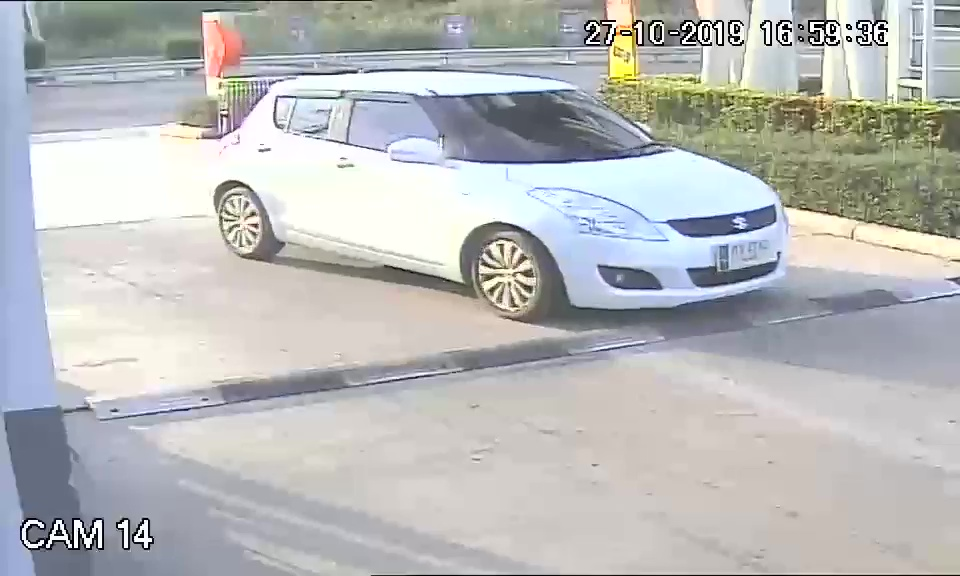sedan: (198, 69, 793, 322)
